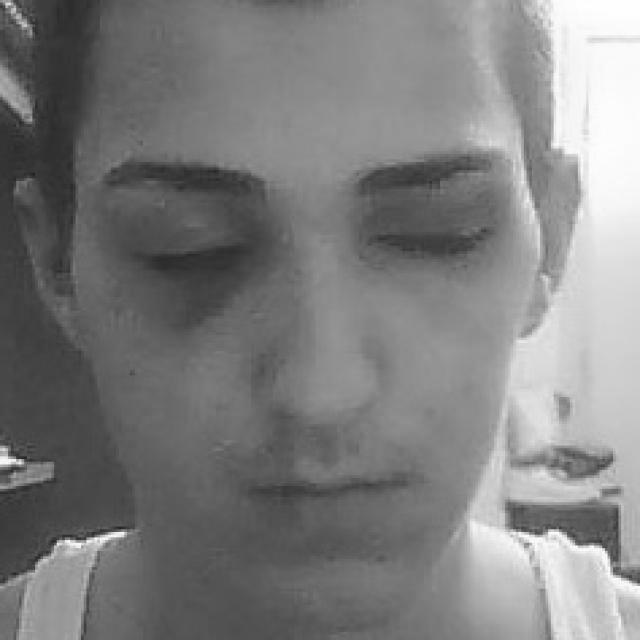real: (48, 20, 578, 613), (125, 186, 516, 284)
